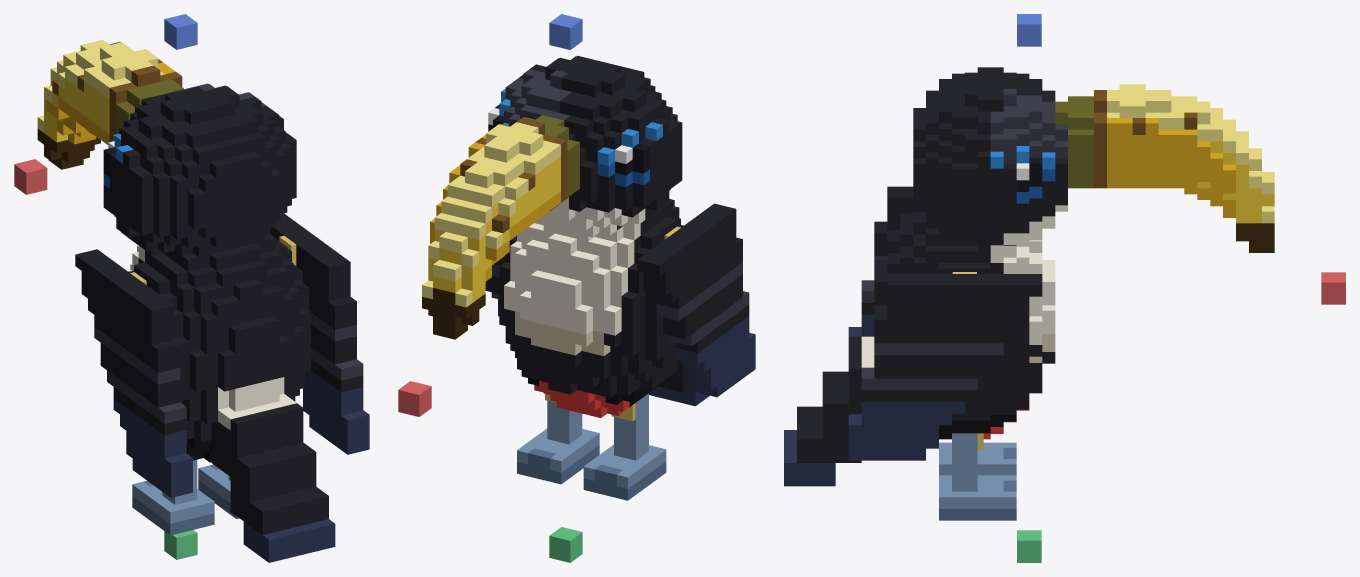
Rendered from TukannoBananno.glb.
The picture shows the model from 3 angles, left to right: view 1: azimuth 30°, elevation 25°; view 2: azimuth 150°, elevation 25°; view 3: azimuth 270°, elevation 25°; orthographic projection.
Visible parts, largest first — view 1: TukannoBananno_Head6, TukannoBananno_Body, TukannoBananno_Wing4, TukannoBananno_Tail5, TukannoBananno_Wing3, TukannoBananno_Leg2, TukannoBananno_Leg1, TukannoBananno_Front, TukannoBananno_Top, TukannoBananno_Built; view 2: TukannoBananno_Head6, TukannoBananno_Body, TukannoBananno_Wing4, TukannoBananno_Leg2, TukannoBananno_Leg1, TukannoBananno_Tail5, TukannoBananno_Top, TukannoBananno_Built, TukannoBananno_Front; view 3: TukannoBananno_Head6, TukannoBananno_Wing3, TukannoBananno_Body, TukannoBananno_Tail5, TukannoBananno_Leg1, TukannoBananno_Wing4, TukannoBananno_Leg2, TukannoBananno_Front, TukannoBananno_Top, TukannoBananno_Built.
Part boxes in pixels (box(x1,y1,x2,y2)): TukannoBananno_Head6: box(37, 40, 296, 261); TukannoBananno_Body: box(127, 234, 310, 462); TukannoBananno_Wing4: box(75, 249, 192, 497); TukannoBananno_Tail5: box(211, 394, 335, 562); TukannoBananno_Wing3: box(270, 213, 369, 454); TukannoBananno_Leg2: box(132, 459, 214, 535); TukannoBananno_Leg1: box(198, 464, 239, 518); TukannoBananno_Front: box(14, 159, 47, 194); TukannoBananno_Top: box(164, 14, 197, 49); TukannoBananno_Built: box(164, 530, 197, 559); TukannoBananno_Head6: box(422, 55, 682, 339); TukannoBananno_Body: box(499, 199, 683, 417); TukannoBananno_Wing4: box(637, 203, 755, 397); TukannoBananno_Leg2: box(583, 393, 666, 500); TukannoBananno_Leg1: box(517, 400, 599, 484); TukannoBananno_Tail5: box(649, 360, 709, 406); TukannoBananno_Top: box(549, 14, 582, 49); TukannoBananno_Built: box(549, 527, 582, 562); TukannoBananno_Front: box(398, 381, 431, 416); TukannoBananno_Head6: box(913, 67, 1274, 252); TukannoBananno_Wing3: box(848, 274, 1042, 460); TukannoBananno_Body: box(874, 211, 1055, 439); TukannoBananno_Tail5: box(784, 336, 874, 486); TukannoBananno_Leg1: box(939, 433, 1016, 520); TukannoBananno_Wing4: box(848, 186, 913, 336); TukannoBananno_Leg2: box(939, 442, 1016, 475); TukannoBananno_Front: box(1321, 272, 1345, 304); TukannoBananno_Top: box(1017, 14, 1041, 46); TukannoBananno_Built: box(1017, 530, 1041, 562).
Size of the model in its own units: 2.37 by 6.06 by 5.72.
1 material, 1 textured.
